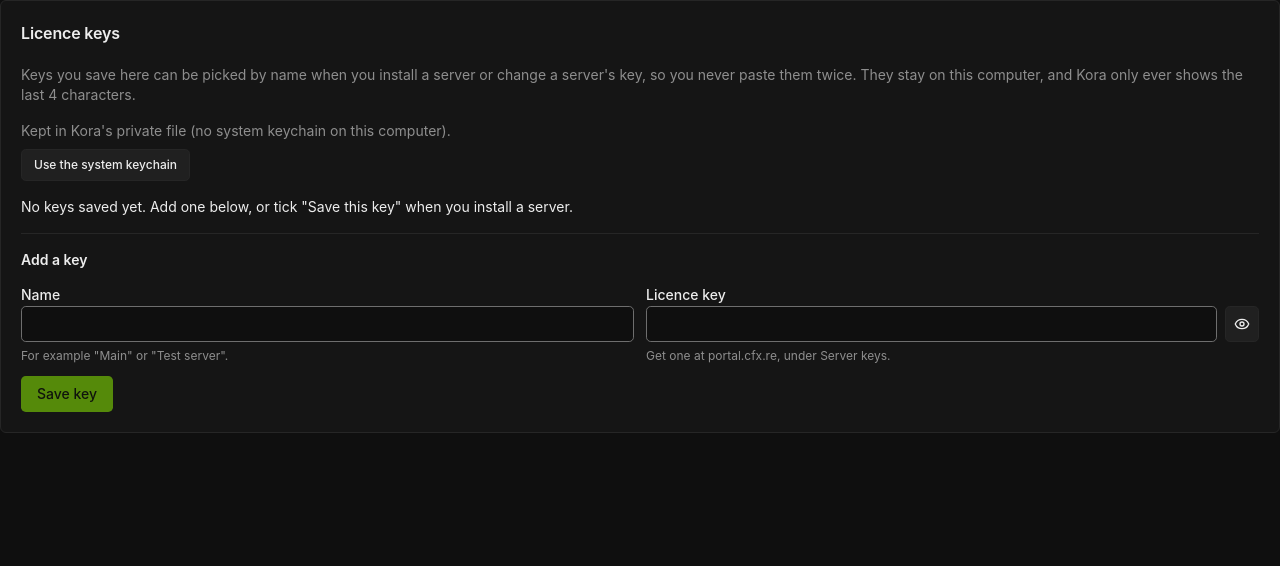
Test: Settings: licence keys › starts empty, adds a key by name and shows only its last four characters
Expected: the text "No keys saved yet" is shown, [21,198,573,215]
Expected: the button "Save key" is disabled, [21,376,113,412]
Type "Main" into the field labelled "Name".
click(328, 324); type("Main")  # box [21,306,634,342]
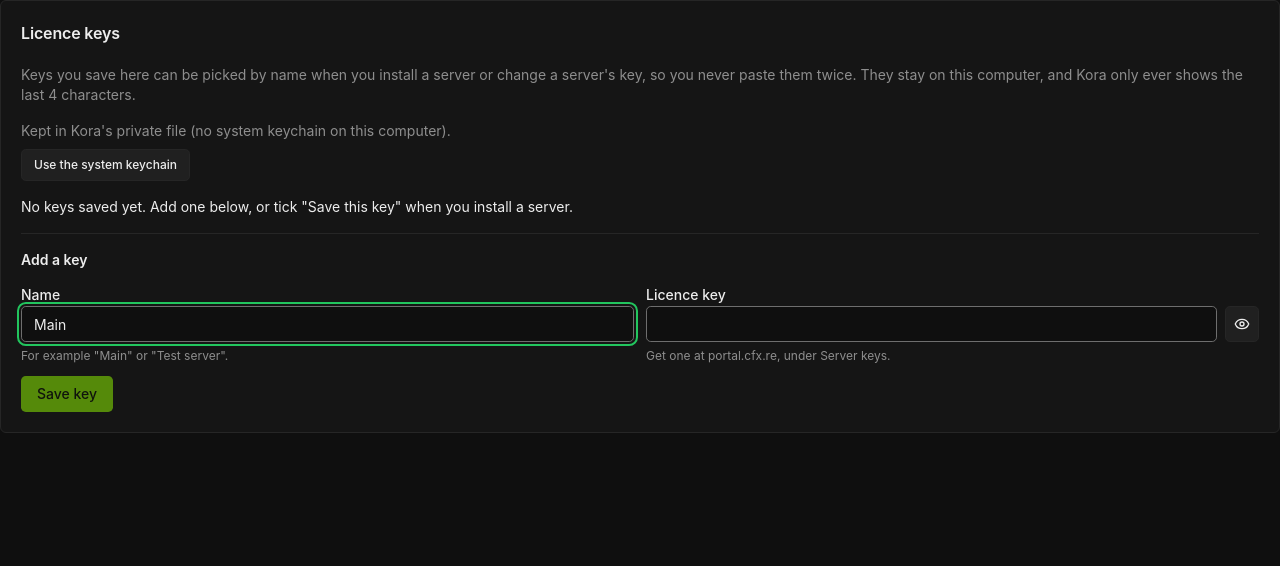
Type "cfxk_MAINKEYMAINKEY12345_1111" into the password field labelled "Licence key".
click(932, 324); type("cfxk_MAINKEYMAINKEY12345_1111")  # box [646,306,1217,342]
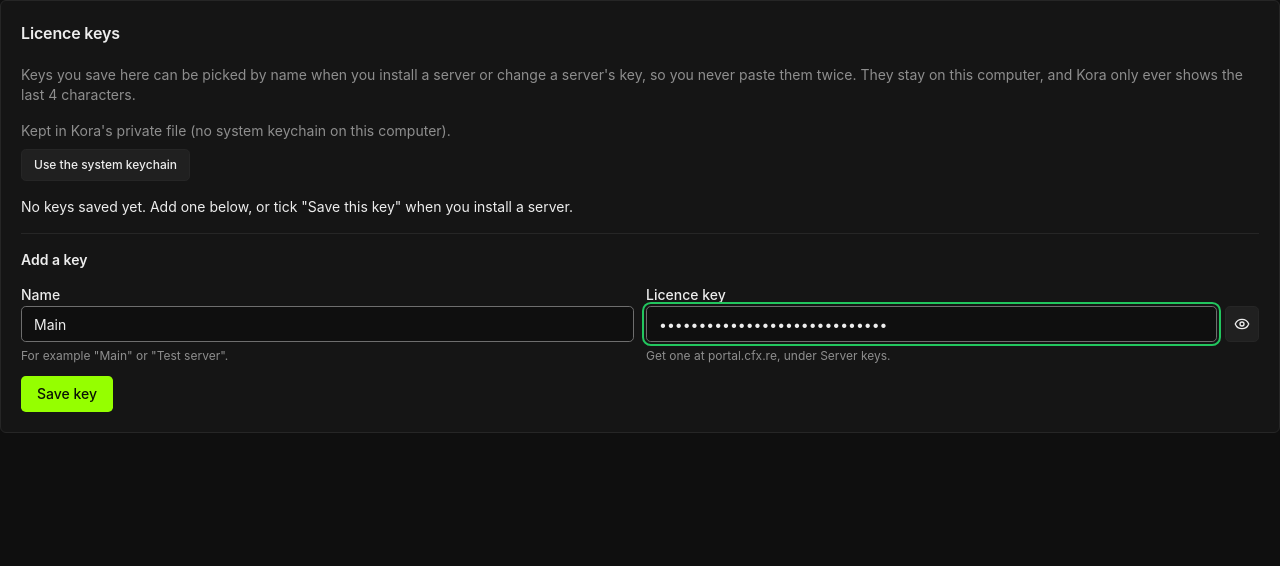
Click the button "Save key".
click(67, 394)  # box [21,376,113,412]
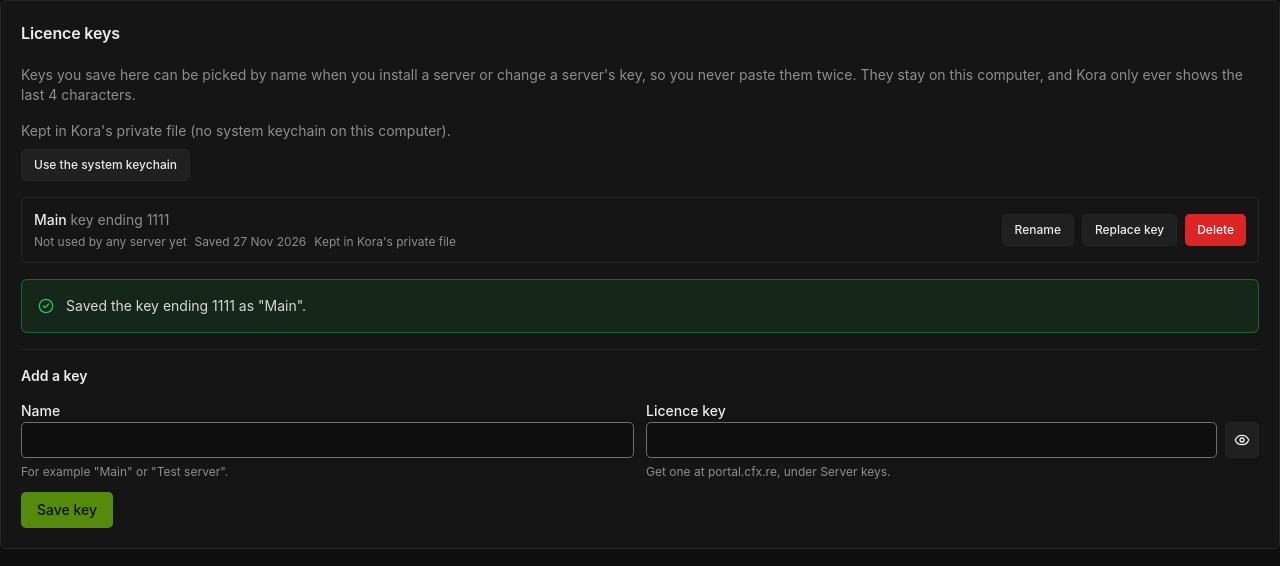
Result: the text "Saved the key ending 1111 as \"Main\"." is shown at [66,297,306,314]
Result: the text "Main" is shown at [34,211,67,228]
Result: the text "key ending 1111" is shown at [70,211,169,228]
